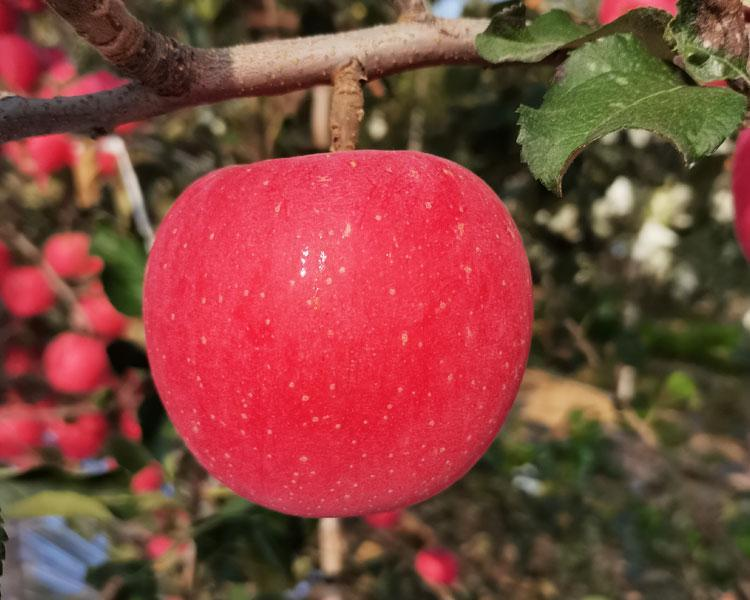apple: (142, 152, 535, 518)
